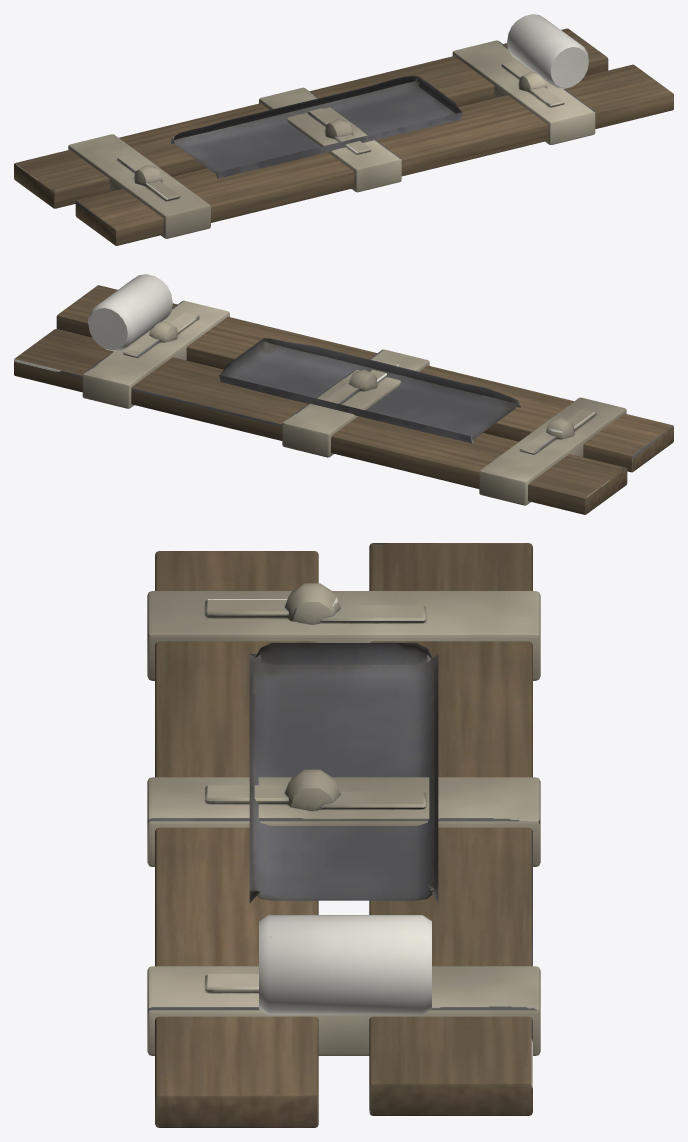
File: tala_improvisada.glb
The picture shows the model from 3 angles, top to bottom: view 1: azimuth 30°, elevation 25°; view 2: azimuth 150°, elevation 25°; view 3: azimuth 270°, elevation 25°; orthographic projection. The views are drawn at different scales.
Parts seen in each view (by area): view 1: tabuas, amarras, pano; view 2: tabuas, pano, amarras; view 3: tabuas, pano, amarras.
Boxes of the visible parts, x1,y1,x2,y2 form: tabuas: (14, 28, 673, 245); amarras: (68, 40, 595, 238); pano: (170, 14, 588, 178); tabuas: (14, 285, 673, 514); pano: (88, 274, 520, 443); amarras: (82, 300, 626, 505); tabuas: (155, 543, 532, 1127); pano: (249, 643, 438, 1015); amarras: (147, 583, 540, 1055).
Bounding box in the file's own units: 0.416 × 0.0488 × 0.125.
1 material, 1 textured.
